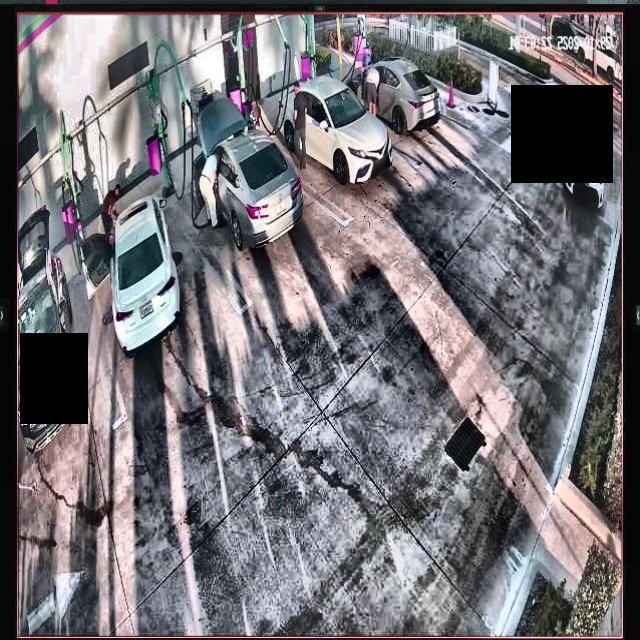Car: (203, 99, 299, 248), (278, 76, 388, 180), (111, 195, 178, 354)
